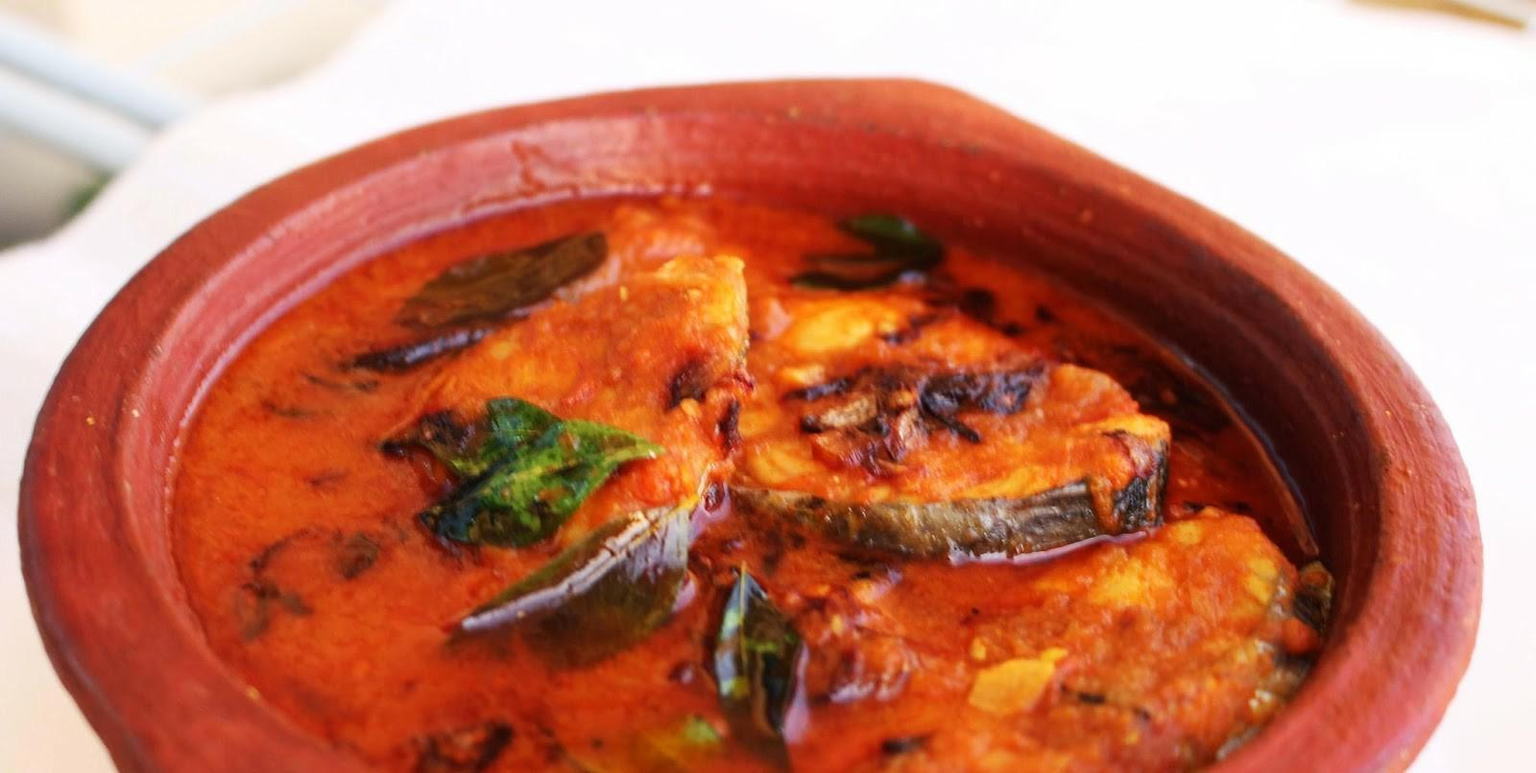FishCurry: (169, 192, 1343, 773)
